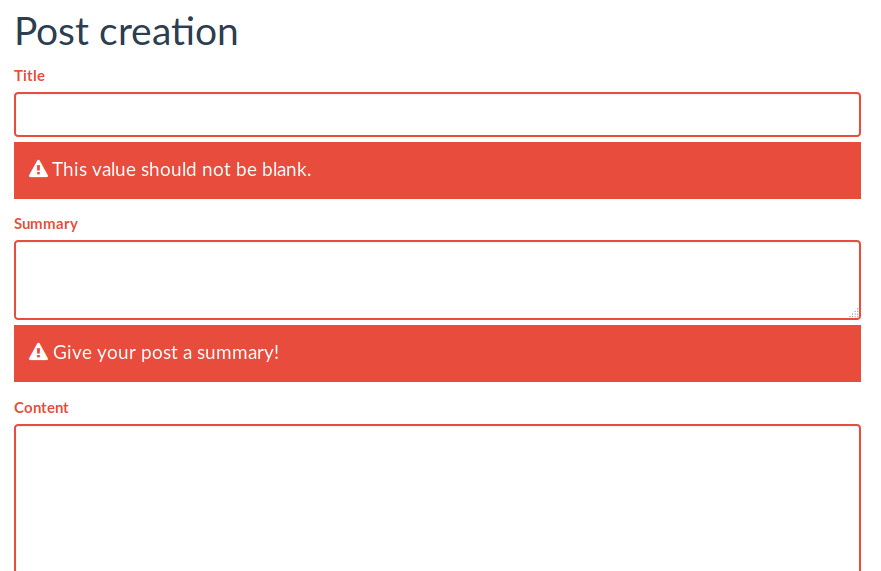error_field: (12, 237, 864, 321), (13, 91, 862, 139)
error_message: (53, 158, 315, 181), (51, 344, 281, 366), (11, 216, 80, 231), (13, 399, 71, 416), (12, 67, 48, 84)
